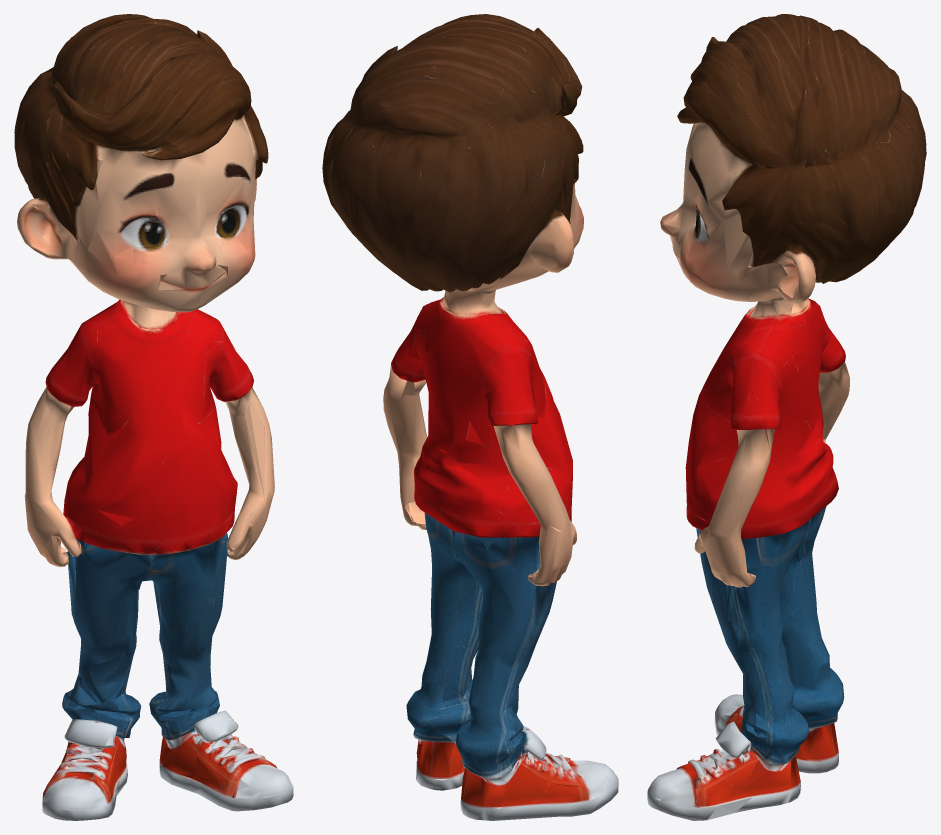
Rendered from addy_lost_kid.obj.
3 renders of one model, left to right at view 1: azimuth 30°, elevation 25°; view 2: azimuth 150°, elevation 25°; view 3: azimuth 270°, elevation 25°, orthographic. The views are drawn at different scales.
Parts seen in each view (by area): view 1: model; view 2: model; view 3: model.
Part boxes in pixels (box(x1,y1,x2,y2)): model: box(14, 14, 293, 820); model: box(322, 14, 618, 820); model: box(647, 14, 926, 820).
Size of the model in its own units: 0.6329 by 1.9 by 0.6448.
